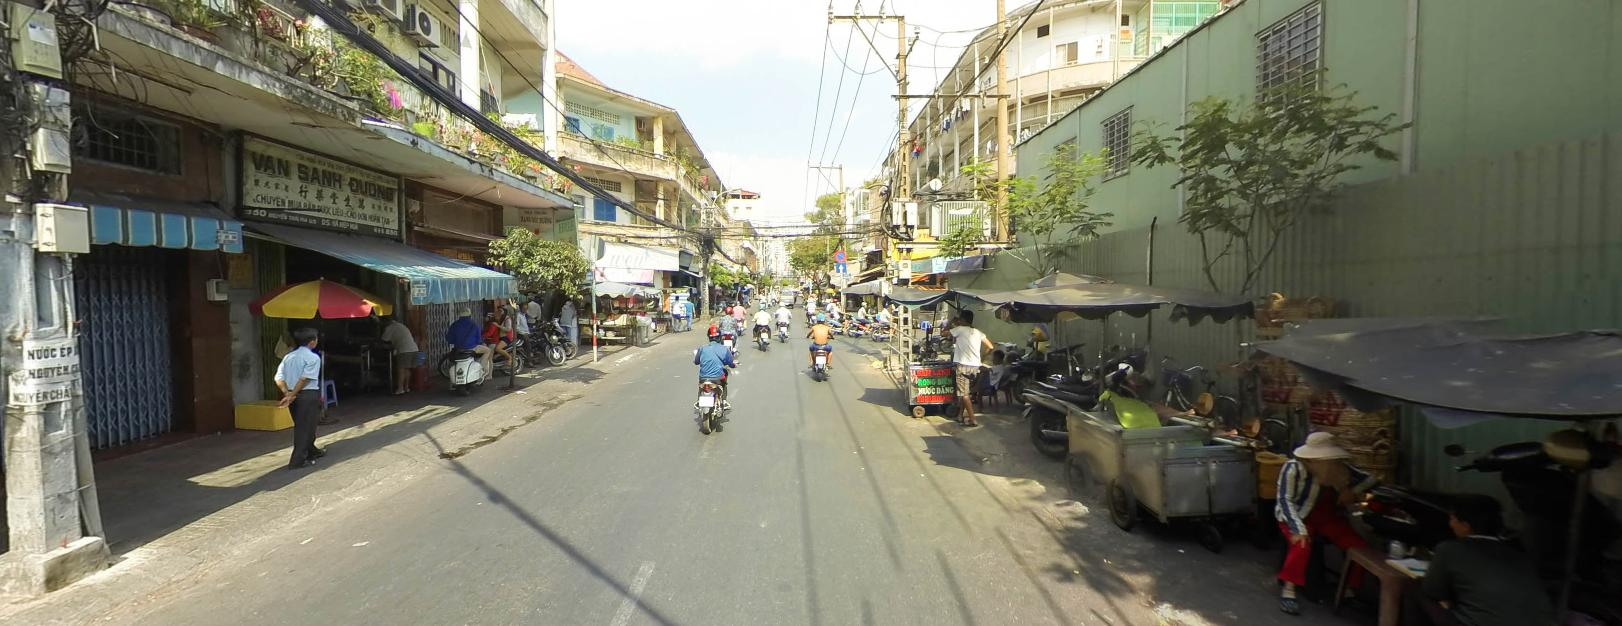Cam dung va do: (834, 249, 846, 260)
